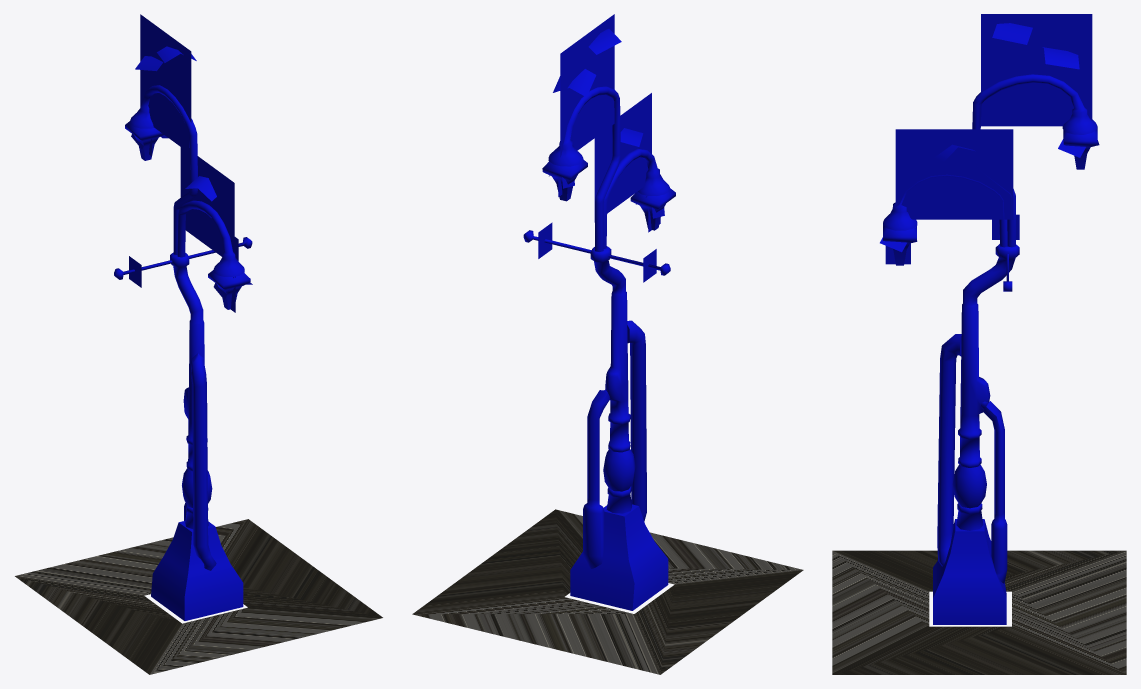
Rendered from street_lamp_nav.fbx.
3 views of the same model, side by side, from view 1: azimuth 30°, elevation 25°; view 2: azimuth 150°, elevation 25°; view 3: azimuth 270°, elevation 25° (orthographic). The views are drawn at different scales.
Visible parts, largest first — view 1: Cube.010, Cube.035; view 2: Cube.010, Cube.035; view 3: Cube.010, Cube.035.
Boxes of the visible parts, x1,y1,x2,y2 form: Cube.010: (114,14,252,620); Cube.035: (15,519,382,674); Cube.010: (523,14,675,610); Cube.035: (412,509,803,674); Cube.010: (880,14,1099,624); Cube.035: (832,550,1126,674).
Size of the model in its own units: 2 by 4.47 by 2.
